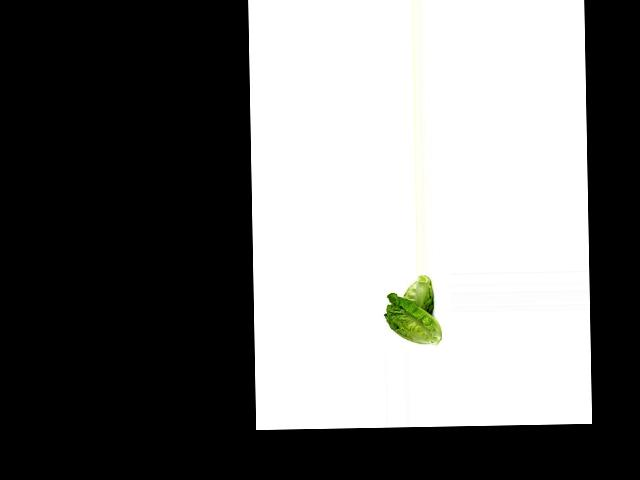lettuce: (401, 273, 437, 315)
